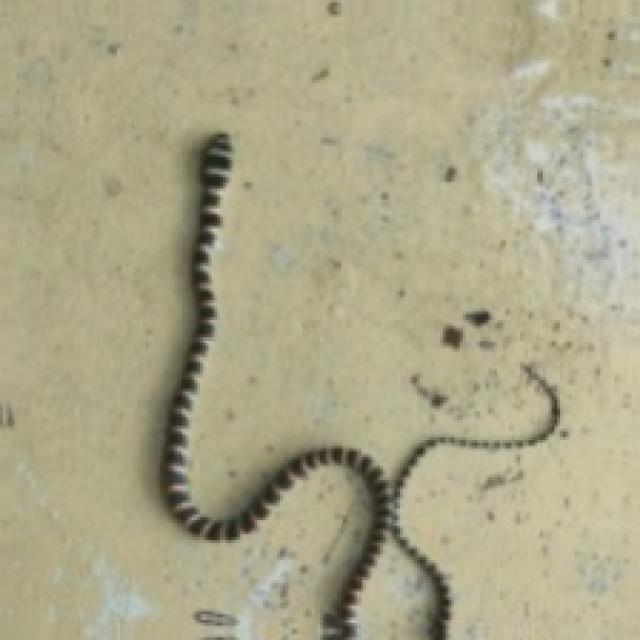paradise tree snake: (163, 134, 557, 637)
